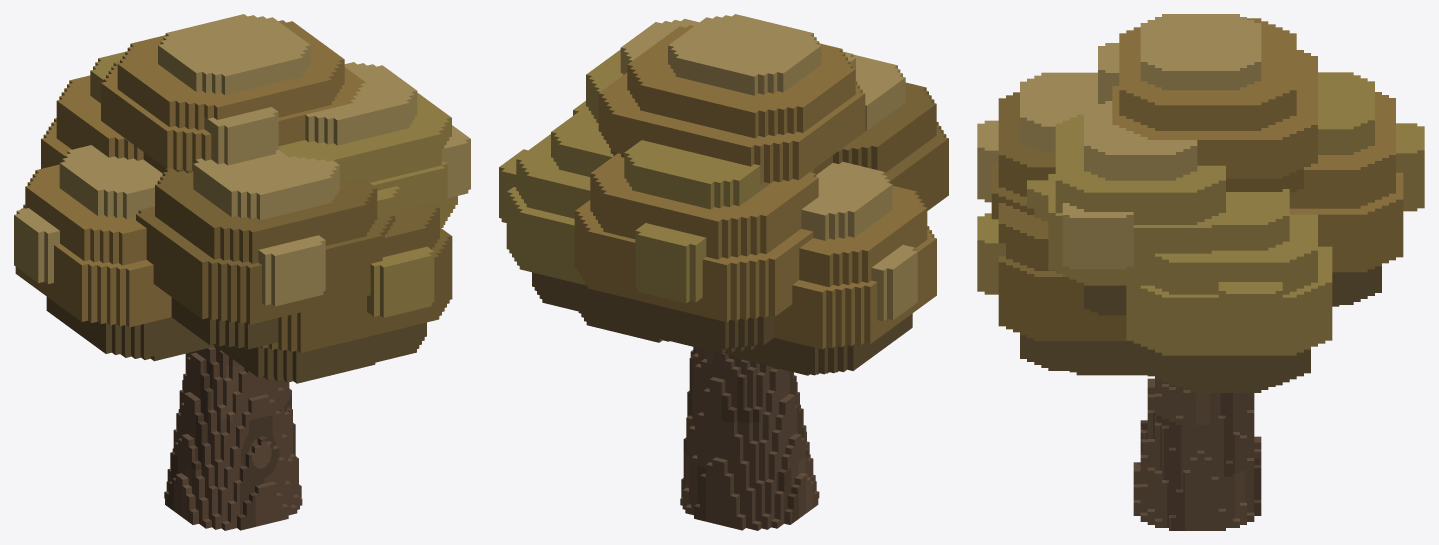
The model's file is apple_ancient_autumn_3.glb.
3 views of the same model, side by side, from view 1: azimuth 30°, elevation 25°; view 2: azimuth 150°, elevation 25°; view 3: azimuth 270°, elevation 25° (orthographic).
Parts seen in each view (by area): view 1: VoxelVisual; view 2: VoxelVisual; view 3: VoxelVisual.
Part boxes in pixels (x1,y1,x2,y2): VoxelVisual: (14, 14, 470, 530); VoxelVisual: (499, 14, 948, 530); VoxelVisual: (977, 14, 1424, 530).
Size of what is drawn, in the model's own units: 16.25 by 18 by 15.75.
